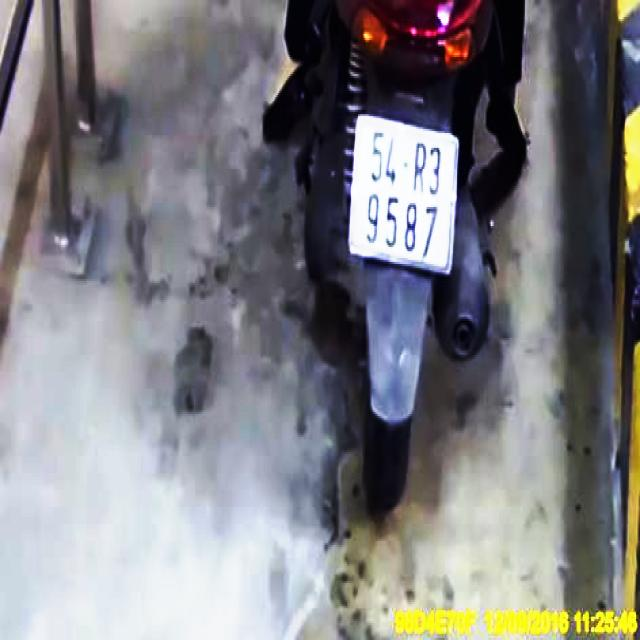license_plate: (352, 114, 458, 269)
